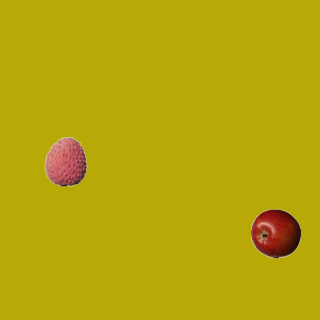Apple Braeburn: (250, 208, 300, 258)
Lychee: (40, 136, 90, 186)
